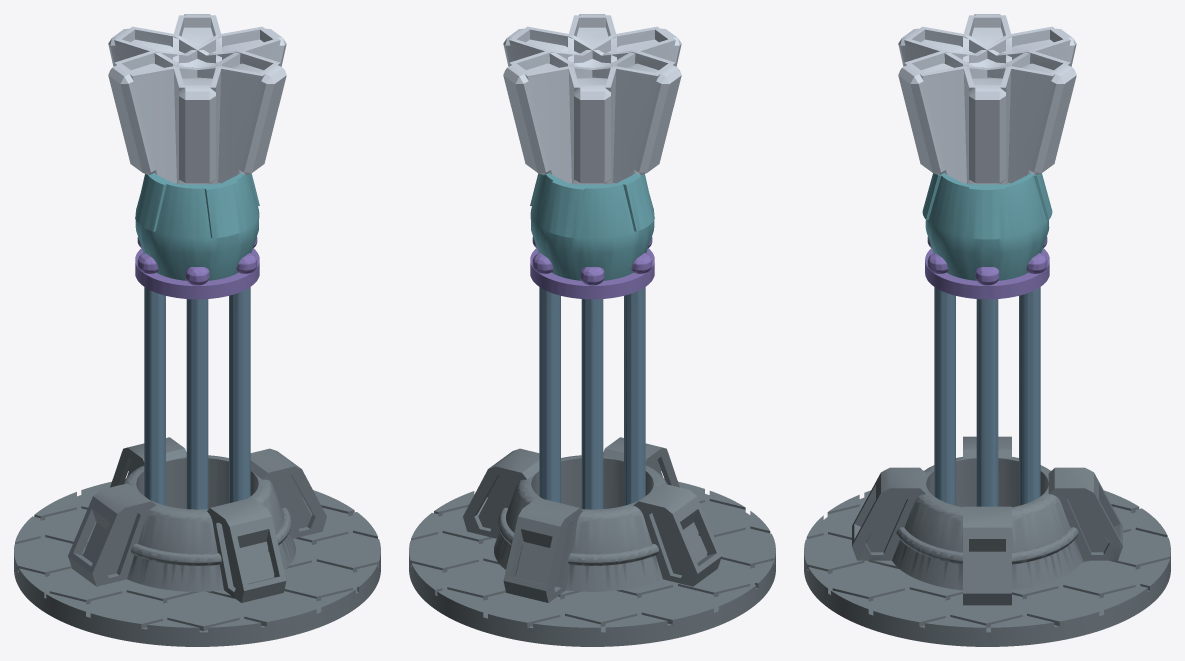
Rendered from prism-tower.glb.
3 views of the same model, side by side, from view 1: azimuth 30°, elevation 25°; view 2: azimuth 150°, elevation 25°; view 3: azimuth 270°, elevation 25° (orthographic).
Parts seen in each view (by area): view 1: prism-tower-foundation-transformer, prism-tower-prism-emitter, prism-tower-light-column, prism-tower-resonator-throat, prism-tower-focus-collar; view 2: prism-tower-foundation-transformer, prism-tower-prism-emitter, prism-tower-light-column, prism-tower-resonator-throat, prism-tower-focus-collar; view 3: prism-tower-foundation-transformer, prism-tower-prism-emitter, prism-tower-light-column, prism-tower-resonator-throat, prism-tower-focus-collar.
Boxes of the visible parts, x1,y1,x2,y2 form: prism-tower-foundation-transformer: (14,437,380,646); prism-tower-prism-emitter: (108,14,286,184); prism-tower-light-column: (144,287,250,509); prism-tower-resonator-throat: (135,173,259,280); prism-tower-focus-collar: (135,237,259,299); prism-tower-foundation-transformer: (409,437,775,646); prism-tower-prism-emitter: (503,14,681,184); prism-tower-light-column: (539,287,645,509); prism-tower-resonator-throat: (530,173,654,280); prism-tower-focus-collar: (530,237,654,299); prism-tower-foundation-transformer: (804,436,1170,646); prism-tower-prism-emitter: (898,14,1076,184); prism-tower-light-column: (934,287,1040,506); prism-tower-resonator-throat: (922,173,1052,280); prism-tower-focus-collar: (925,237,1049,299).
Size of the model in its own units: 0.6419 by 1 by 0.6419.
